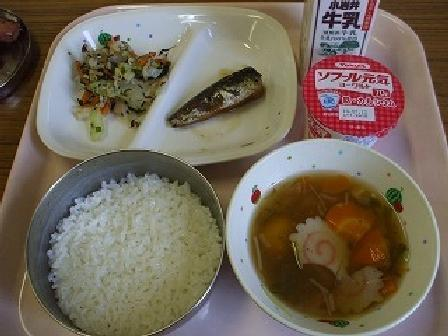Cup desserts: (307, 54, 412, 143)
Fish: (159, 56, 281, 140)
Milk: (296, 0, 386, 68)
Rice: (37, 156, 233, 329)
Salad: (67, 29, 152, 137)
vegetable soup: (234, 146, 431, 328)
